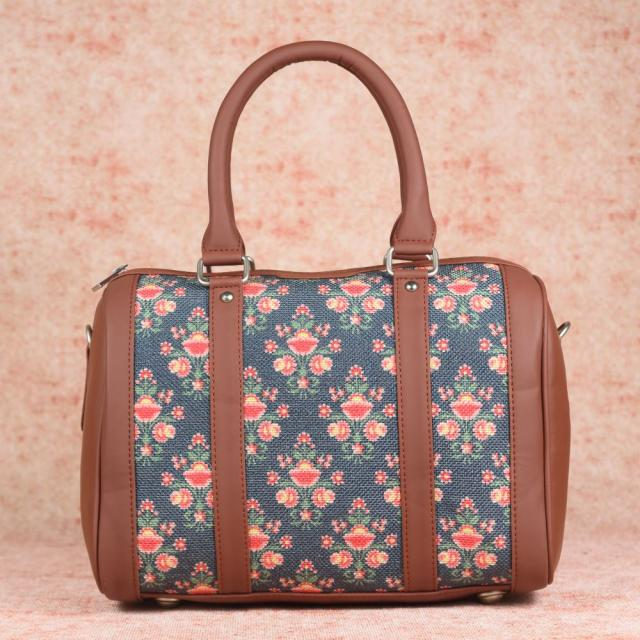handbag: (79, 38, 572, 607)
